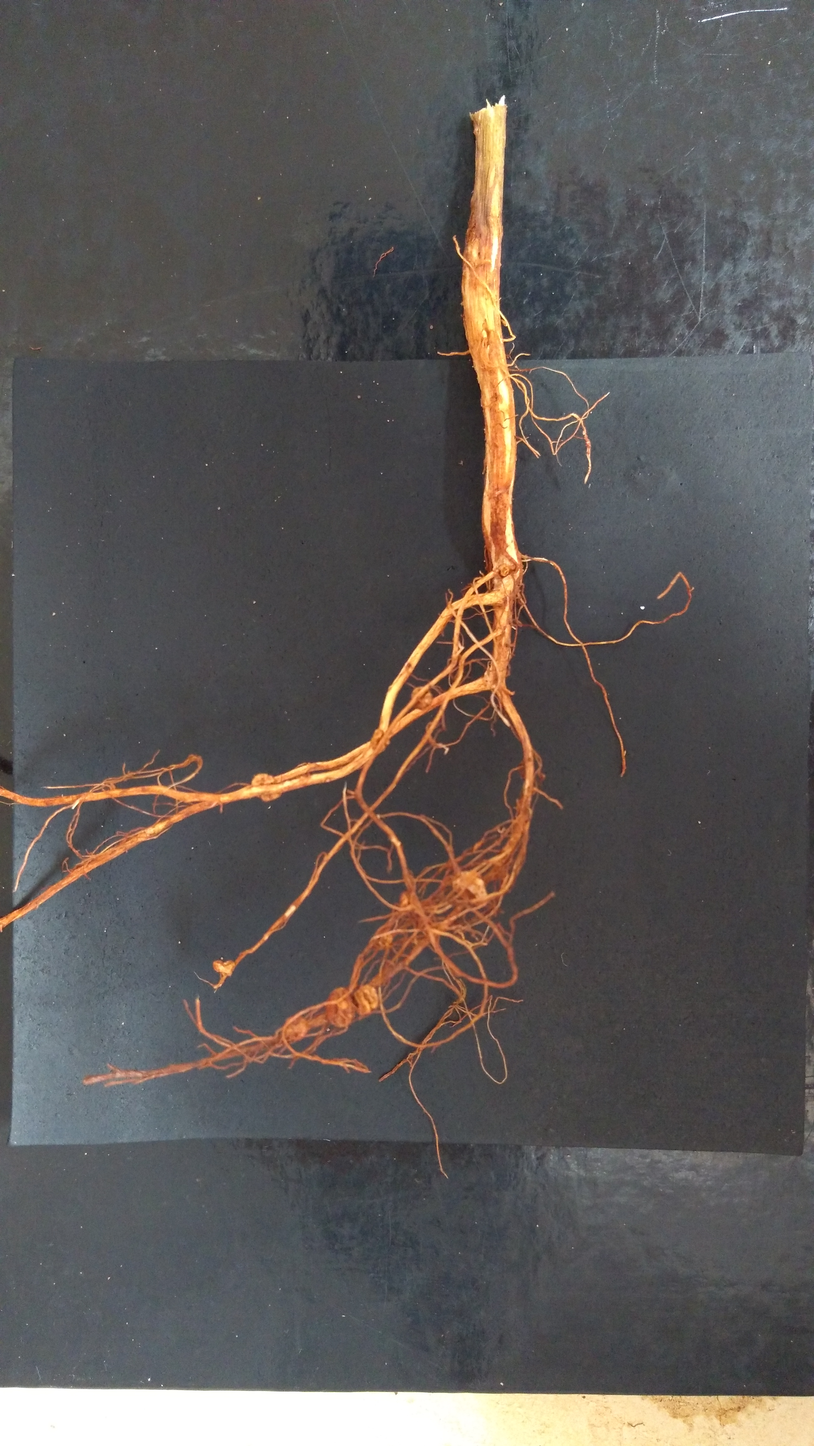nodule: (324, 985, 360, 1029), (450, 868, 490, 906), (250, 772, 284, 803), (353, 981, 381, 1017), (409, 684, 434, 711), (368, 727, 392, 754), (283, 1016, 308, 1040), (211, 958, 238, 978), (372, 928, 394, 948), (398, 889, 418, 910), (498, 563, 510, 578)
